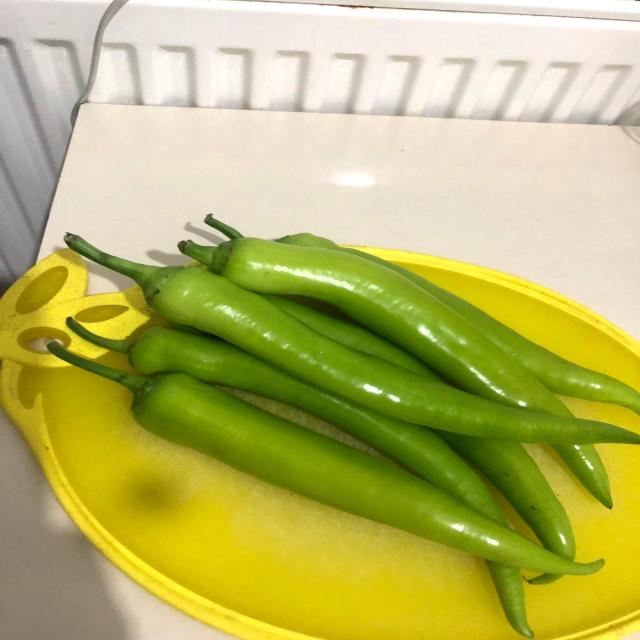green pepper: (36, 338, 612, 578), (61, 226, 640, 450), (177, 230, 640, 510)
